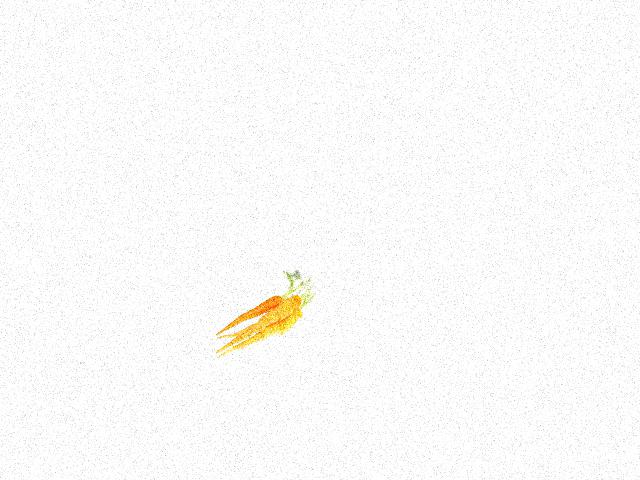carrot: (216, 308, 306, 359)
